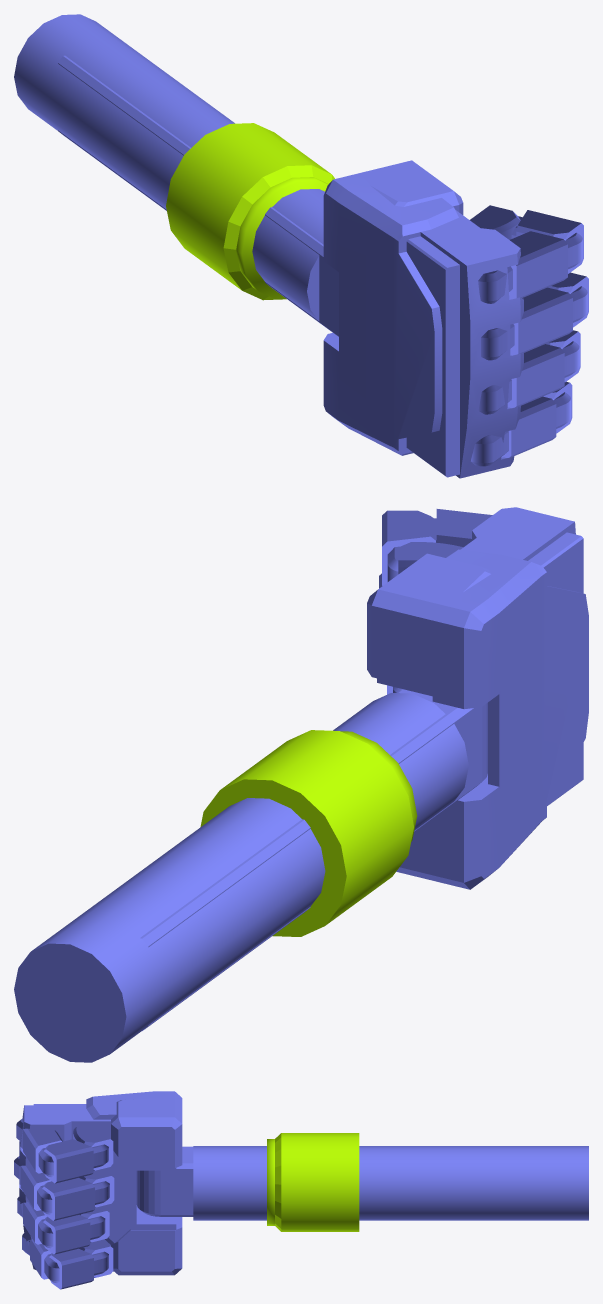
The model's file is PunchWeapon.FBX.
The picture shows the model from 3 angles, top to bottom: view 1: azimuth 30°, elevation 25°; view 2: azimuth 150°, elevation 25°; view 3: azimuth 270°, elevation 25°; orthographic projection. The views are drawn at different scales.
Parts seen in each view (by area): view 1: Palma, Tubo, BasePunch, Brazo; view 2: Palma, Tubo, BasePunch, Brazo; view 3: Palma, Tubo, BasePunch, Brazo.
Part boxes in pixels (x1,y1,x2,y2): Palma: (323,160,588,478); Tubo: (14,14,324,320); BasePunch: (166,123,334,300); Brazo: (58,55,338,336); Palma: (367,507,588,889); Tubo: (14,693,468,1062); BasePunch: (200,730,417,936); Brazo: (140,689,487,1030); Palma: (14,1091,182,1289); Tubo: (193,1146,588,1220); BasePunch: (267,1133,359,1231); Brazo: (136,1146,193,1216).
Bounding box in the file's own units: 12.55 × 14.42 × 46.8.
